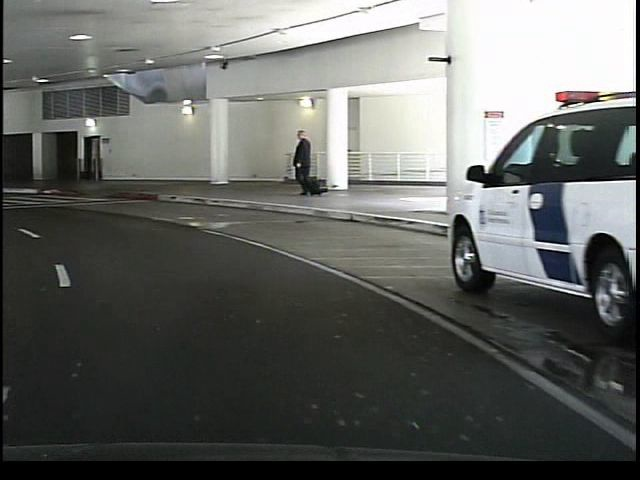person: (286, 127, 321, 203)
